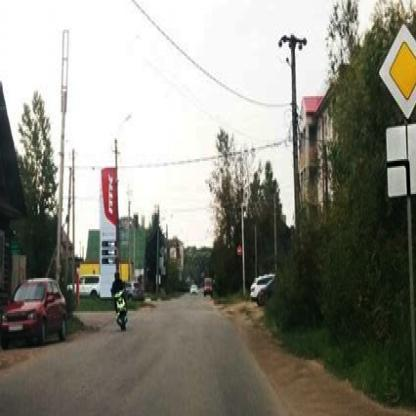obstructed_road_sign: (379, 26, 416, 119), (388, 124, 416, 199)
